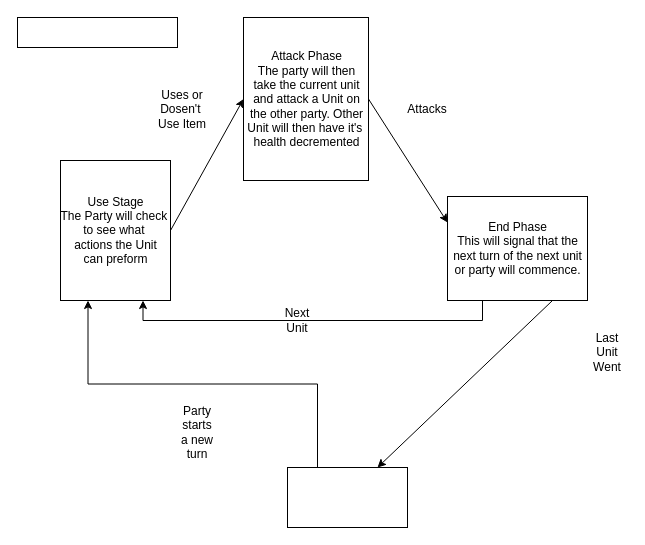
Some shapes in this 645 by 545 pixel diagram are drawn without their labels. Each missing label, with the centre of its shape:
Turn Stages FSM: the point at 97,32
Wait Phase In this Phase, the party can not do anything.: the point at 347,497
